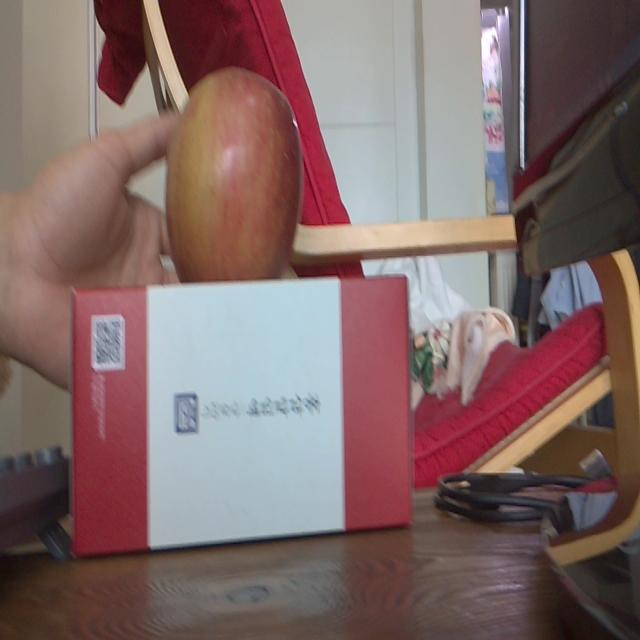apple: (165, 67, 302, 281)
